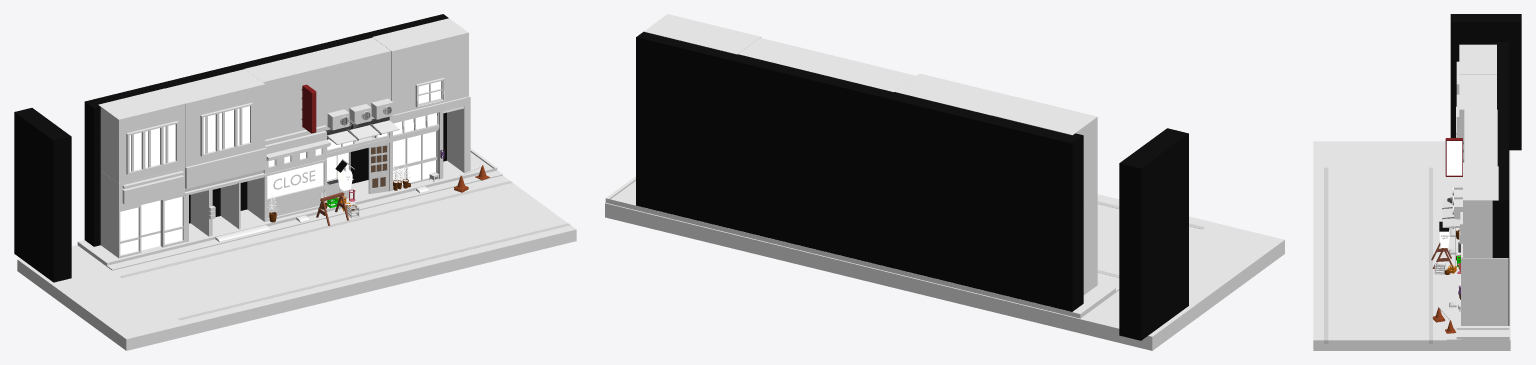
Rendered from japanStreet.gltf.
3 renders of one model, left to right at view 1: azimuth 30°, elevation 25°; view 2: azimuth 150°, elevation 25°; view 3: azimuth 270°, elevation 25°, orthographic. The views are drawn at different scales.
Visible parts, largest first — view 1: Cube, Cube.140, Cube.124, Cube.047, Cube.037, Cube.068, Cube.065, Cube.046, Cube.061, Cube.021, Cube.028, Cube.066 (+18 smaller); view 2: Cube.124, Cube, Cube.140, Cube.021, Cube.068, Cube.065, Cube.047, Cube.046, Cube.061, Cube.037; view 3: Cube, Cube.140, Cube.001, Cube.124, Cube.047, Cube.065, Cube.021, Cube.068, Cube.072, Cube.046, Cube.061, Cube.142 (+5 smaller).
Boxes of the visible parts, box(x1,y1,x2,y2) form: Cube: box(17, 175, 576, 350); Cube.140: box(14, 108, 71, 282); Cube.124: box(84, 14, 448, 246); Cube.047: box(372, 18, 468, 114); Cube.037: box(100, 168, 184, 258); Cube.068: box(98, 88, 184, 183); Cube.065: box(165, 69, 265, 167); Cube.046: box(305, 37, 391, 130); Cube.061: box(245, 54, 323, 145); Cube.021: box(77, 148, 497, 266); Cube.028: box(247, 159, 326, 221); Cube.066: box(200, 102, 252, 156); Cube.124: box(636, 32, 1083, 311); Cube: box(605, 194, 1284, 350); Cube.140: box(1119, 128, 1188, 340); Cube.021: box(605, 176, 1115, 318); Cube.068: box(992, 97, 1097, 204); Cube.065: box(895, 73, 1016, 115); Cube.047: box(643, 14, 761, 54); Cube.046: box(738, 38, 841, 73); Cube.061: box(820, 57, 915, 92); Cube.037: box(1083, 195, 1097, 294); Cube: box(1313, 141, 1510, 350); Cube.140: box(1450, 14, 1521, 150); Cube.001: box(1461, 257, 1508, 325); Cube.124: box(1492, 42, 1509, 325); Cube.047: box(1463, 166, 1498, 257); Cube.065: box(1459, 74, 1496, 161); Cube.021: box(1456, 165, 1509, 340); Cube.068: box(1459, 44, 1496, 74); Cube.072: box(1446, 177, 1461, 343); Cube.046: box(1464, 136, 1497, 166); Cube.061: box(1464, 109, 1497, 136); Cube.142: box(1324, 167, 1328, 343).
Size of the model in its own units: 21.01 by 6.88 by 9.31.
